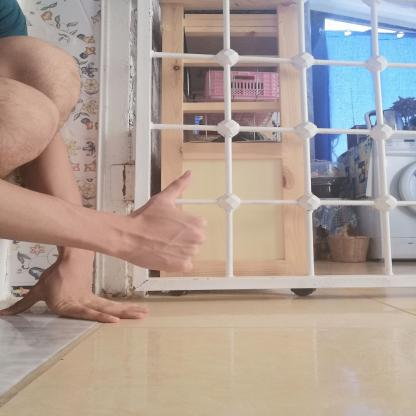ALIF: (115, 155, 215, 283)
